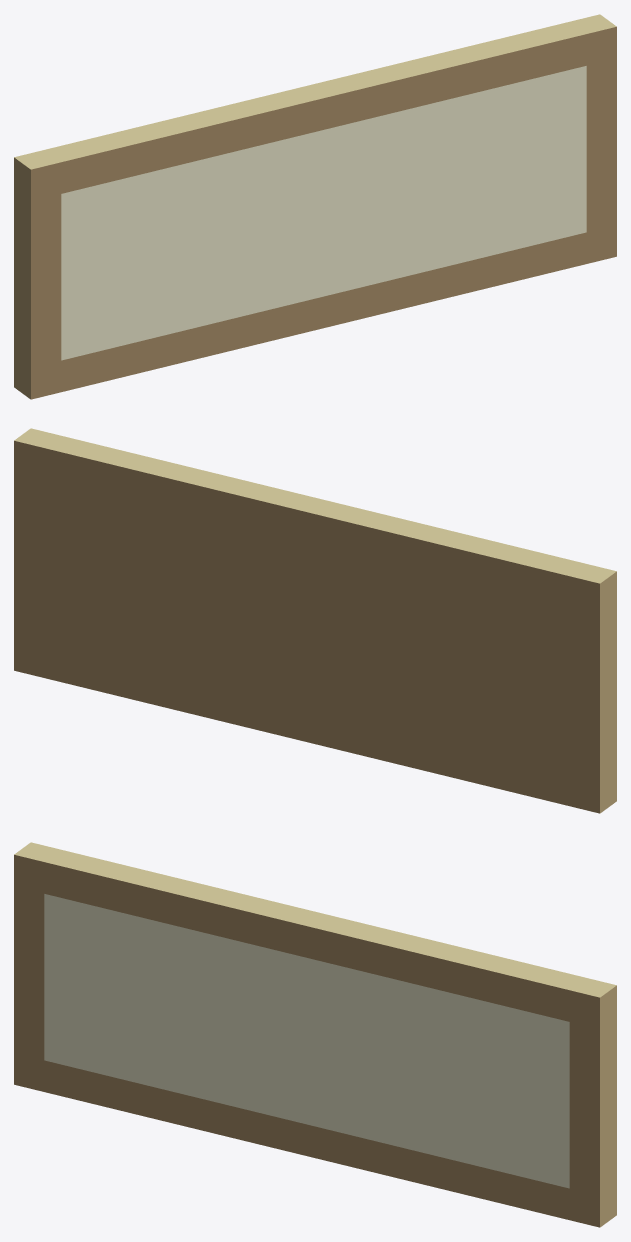
File: TB_CITY_BD_Sign_Ver_E.FBX
3 renders of one model, top to bottom at view 1: azimuth 30°, elevation 25°; view 2: azimuth 150°, elevation 25°; view 3: azimuth 330°, elevation 25°, orthographic.
Visible parts, largest first — view 1: TB_CITY_BD_Sign_Ver_E; view 2: TB_CITY_BD_Sign_Ver_E; view 3: TB_CITY_BD_Sign_Ver_E.
Boxes of the visible parts, x1,y1,x2,y2 form: TB_CITY_BD_Sign_Ver_E: (14,14,616,399); TB_CITY_BD_Sign_Ver_E: (14,428,616,813); TB_CITY_BD_Sign_Ver_E: (14,842,616,1227).
Size of the model in its own units: 3.2 by 1.2 by 0.1598.
